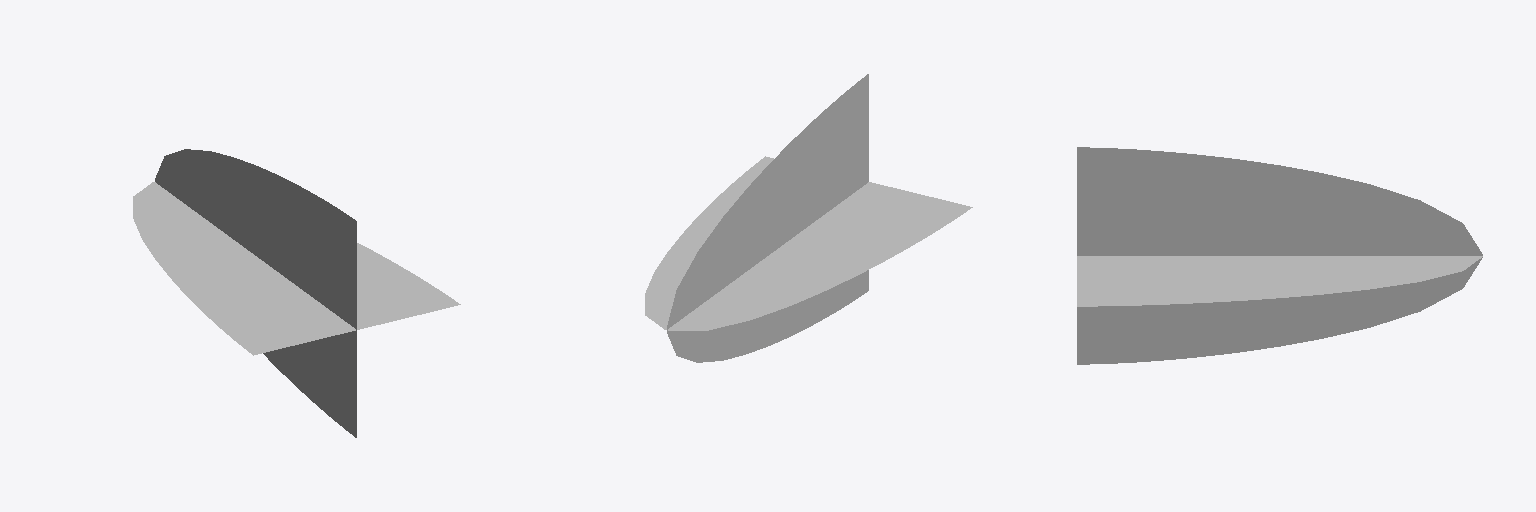
Rendered from trail.obj.
3 renders of one model, left to right at view 1: azimuth 30°, elevation 25°; view 2: azimuth 150°, elevation 25°; view 3: azimuth 270°, elevation 25°, orthographic.
Parts seen in each view (by area): view 1: FireballTrail; view 2: FireballTrail; view 3: FireballTrail.
Boxes of the visible parts, x1=… form: FireballTrail: x1=133, y1=149, x2=460, y2=437; FireballTrail: x1=645, y1=74, x2=972, y2=362; FireballTrail: x1=1077, y1=147, x2=1482, y2=364.
Size of the model in its own units: 2 by 2 by 3.38.